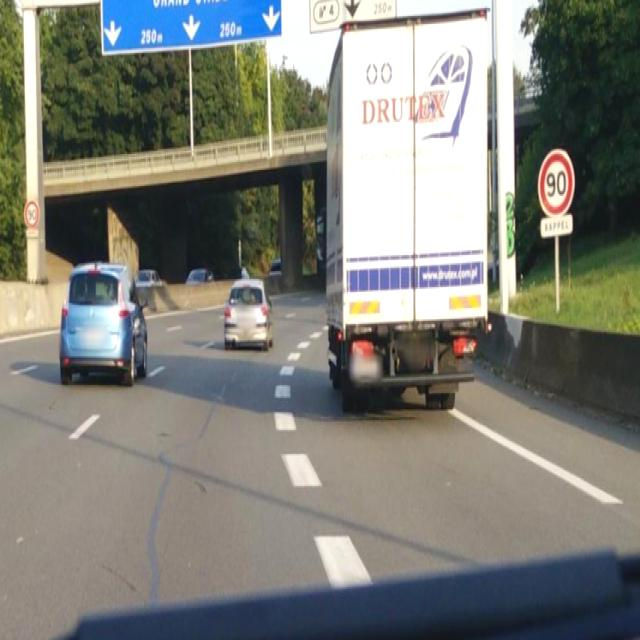speed_90: (540, 153, 574, 214)
